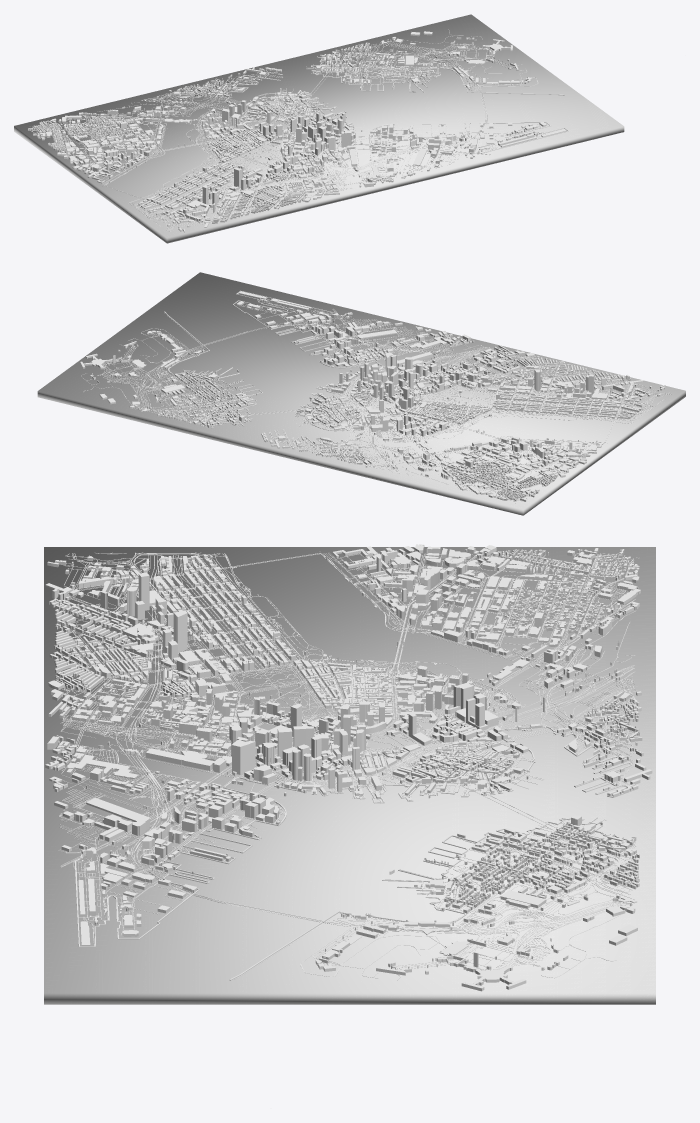
Rendered from BostonMapcompressed.glb.
The picture shows the model from 3 angles, top to bottom: view 1: azimuth 30°, elevation 25°; view 2: azimuth 150°, elevation 25°; view 3: azimuth 270°, elevation 25°; orthographic projection. The views are drawn at different scales.
Parts seen in each view (by area): view 1: Areas:building__0; view 2: Areas:building__0; view 3: Areas:building__0.
Boxes of the visible parts, x1=… form: Areas:building__0: x1=14, y1=14, x2=624, y2=243; Areas:building__0: x1=37, y1=272, x2=685, y2=515; Areas:building__0: x1=44, y1=544, x2=655, y2=1108.
Bounding box in the file's own units: 11208 × 442 × 5161.
Materials: 1 (1 with a texture image).
